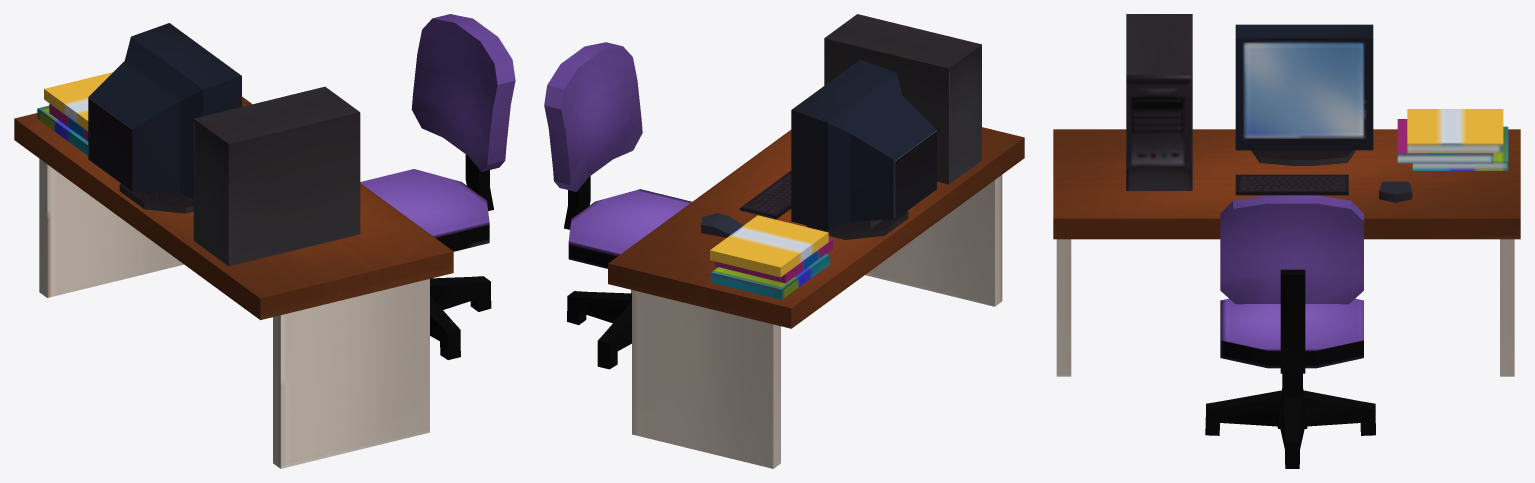
File: Lux_Comp_T3.fbx
3 renders of one model, left to right at view 1: azimuth 30°, elevation 25°; view 2: azimuth 150°, elevation 25°; view 3: azimuth 270°, elevation 25°, orthographic. The views are drawn at different scales.
Parts seen in each view (by area): view 1: Lux_Comp_T3; view 2: Lux_Comp_T3; view 3: Lux_Comp_T3.
Part boxes in pixels (x1,y1,x2,y2): Lux_Comp_T3: [14, 14, 515, 468]; Lux_Comp_T3: [544, 14, 1024, 468]; Lux_Comp_T3: [1053, 14, 1520, 468].
Size of the model in its own units: 7.22 by 5.94 by 8.29.
Materials: 1 (1 with a texture image).
